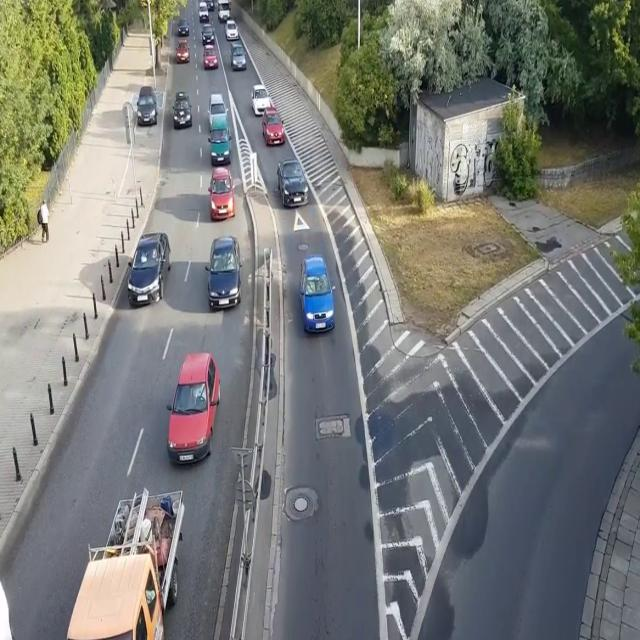car: (164, 351, 221, 467), (126, 231, 172, 309), (298, 256, 337, 336), (203, 236, 243, 312), (206, 166, 236, 222), (276, 158, 310, 207), (262, 107, 286, 148), (170, 90, 193, 130), (136, 86, 158, 126), (206, 93, 229, 129), (249, 82, 271, 116), (230, 42, 247, 71), (202, 46, 219, 70), (175, 39, 191, 64), (200, 23, 215, 46), (224, 19, 239, 41), (177, 16, 190, 36)
truck: (50, 486, 185, 640)
van: (0, 571, 19, 640), (208, 113, 232, 166), (216, 0, 231, 22), (198, 1, 210, 23)
